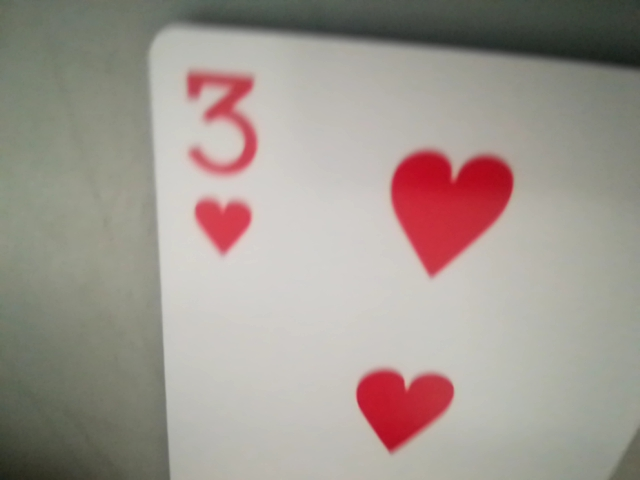hx 3: (162, 41, 275, 259)
